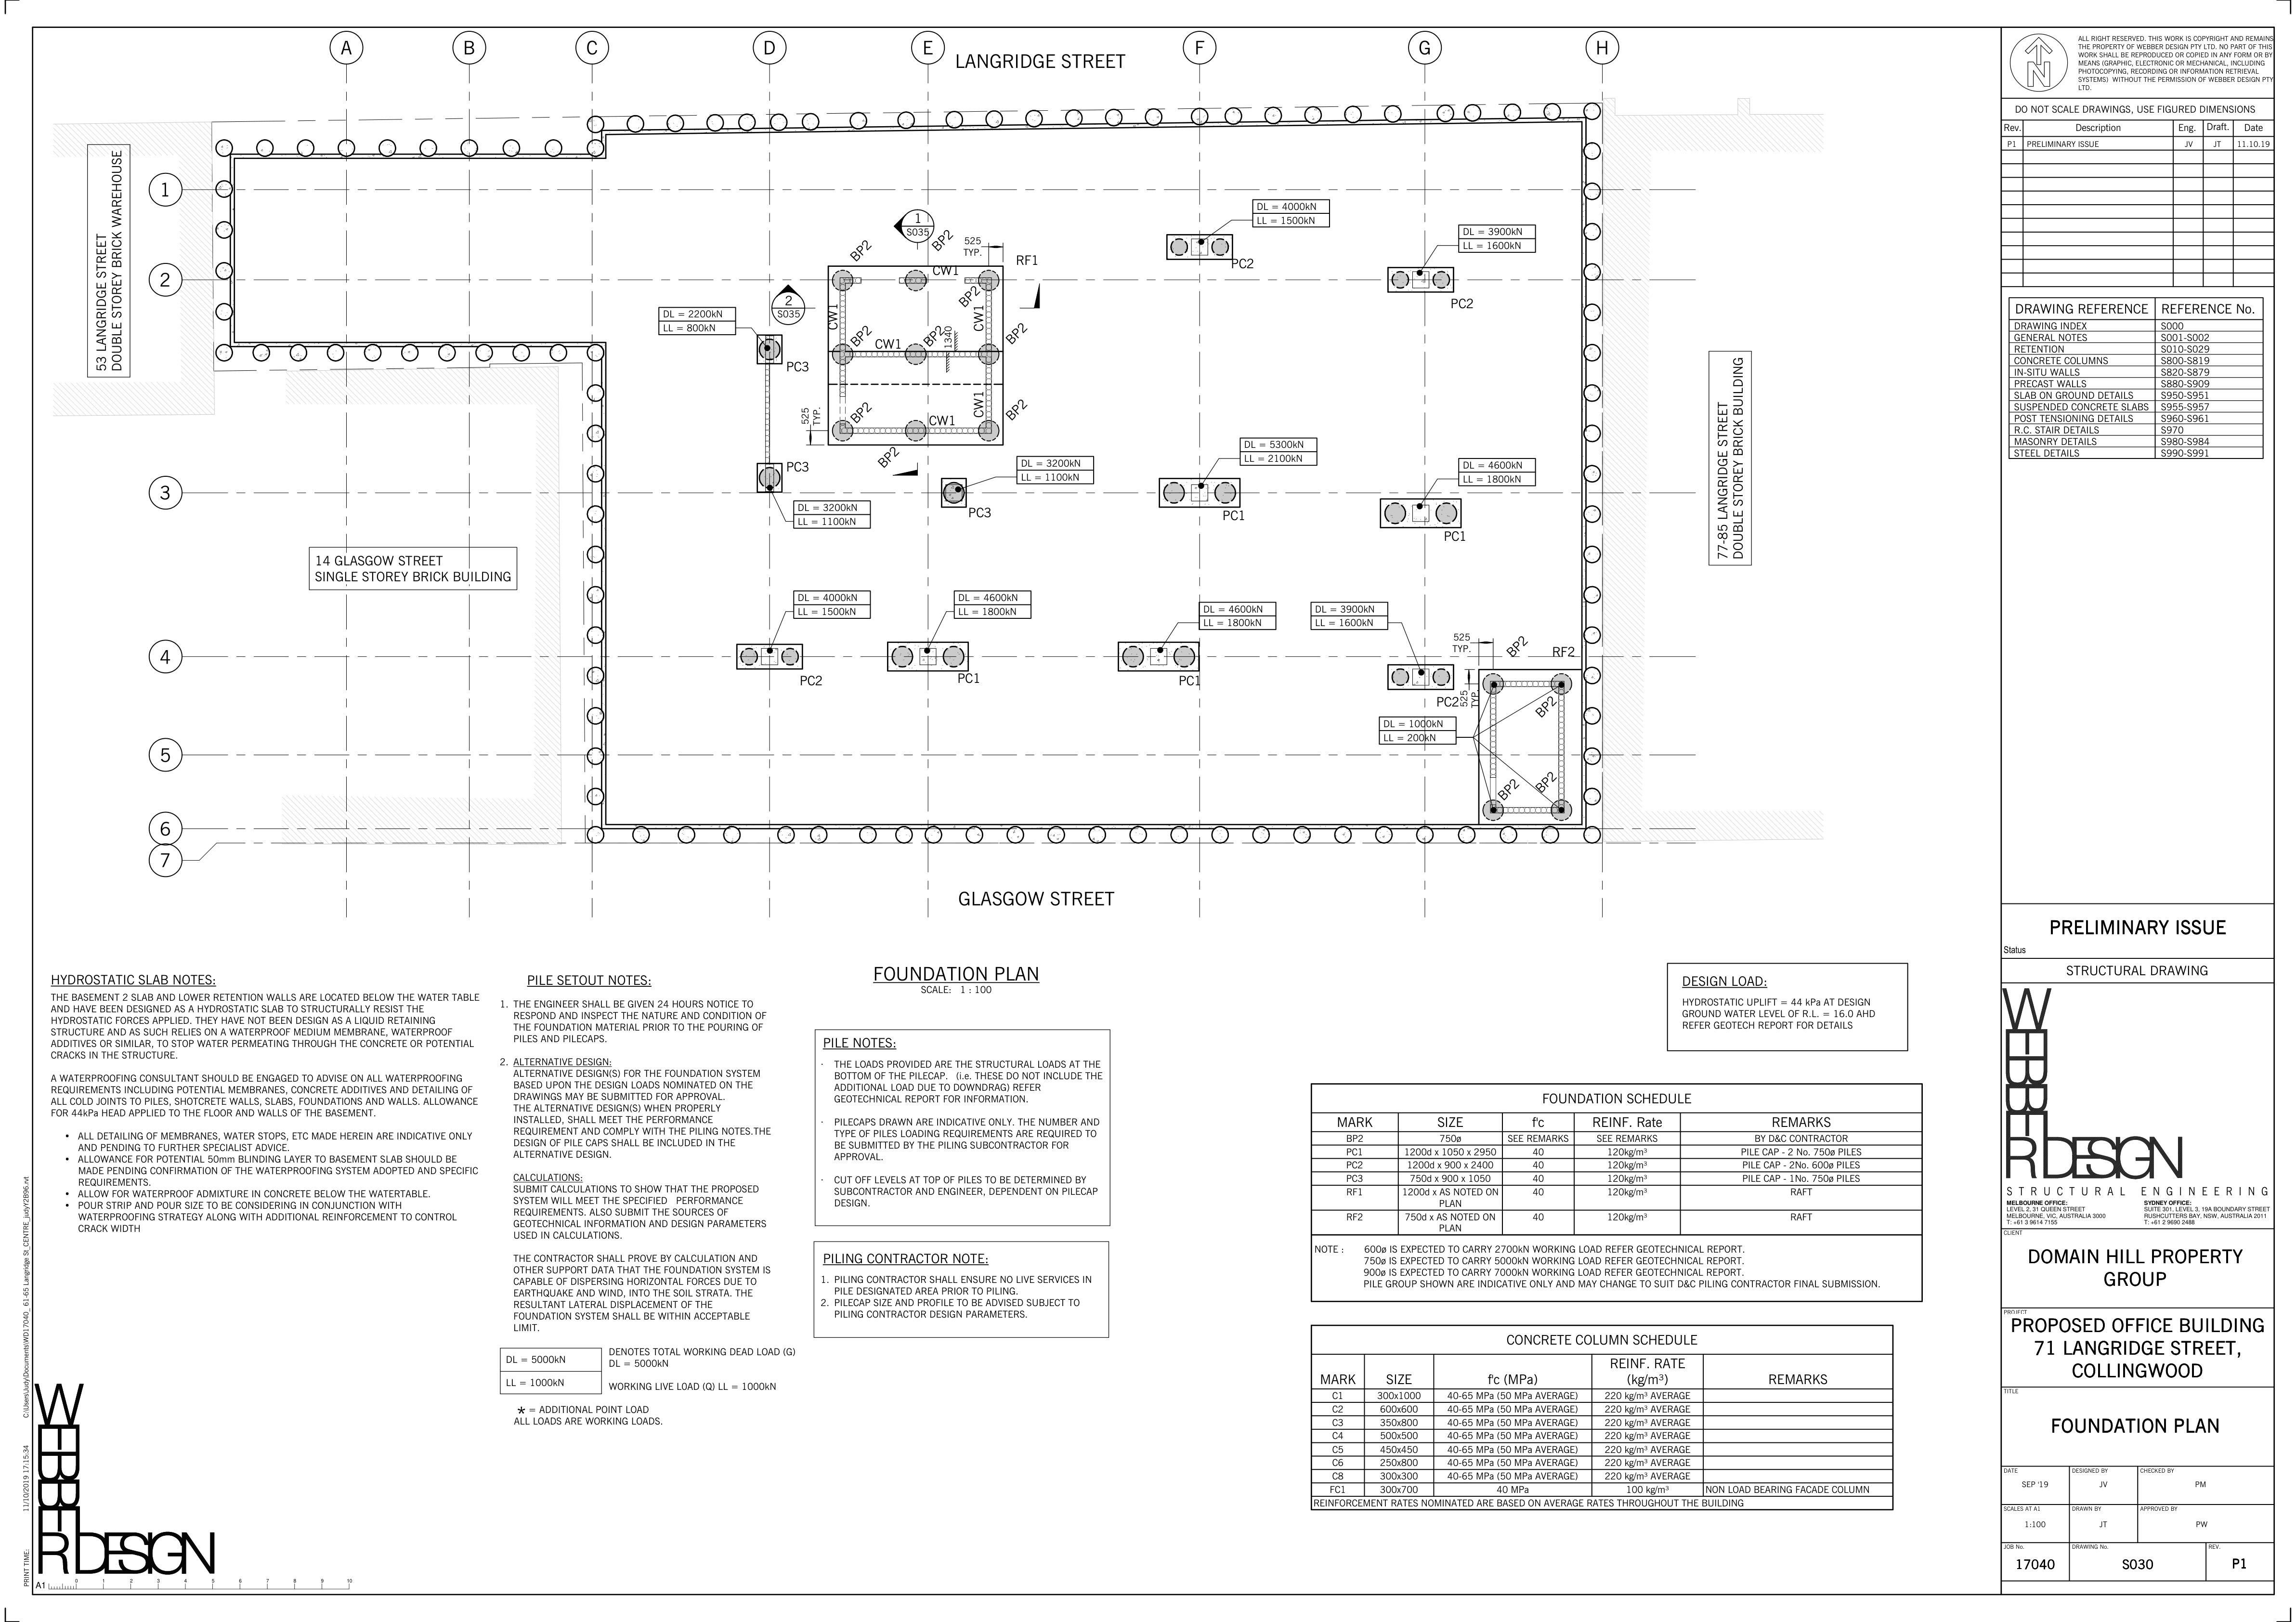BP2: (846, 232, 874, 263), (1006, 398, 1032, 425), (1501, 634, 1527, 660), (1497, 778, 1520, 804), (851, 318, 871, 348), (1008, 323, 1029, 349), (930, 228, 953, 251), (1534, 772, 1557, 795), (878, 446, 902, 467), (1536, 695, 1555, 721), (958, 284, 979, 307), (850, 405, 874, 425), (927, 325, 943, 348)
CW1: (967, 390, 990, 418), (927, 409, 957, 430), (974, 304, 994, 335), (871, 335, 904, 353), (825, 300, 841, 332), (932, 263, 964, 279)
PC1: (1173, 671, 1206, 692), (955, 671, 994, 686), (1441, 527, 1467, 546), (1220, 507, 1248, 523)
PC2: (1229, 255, 1259, 276), (1446, 293, 1478, 312), (797, 674, 829, 692), (1436, 692, 1464, 711)
PC3: (967, 502, 999, 523), (783, 455, 813, 476), (783, 355, 811, 376)
RF1: (1013, 249, 1046, 270)
RF2: (1550, 646, 1578, 662)
